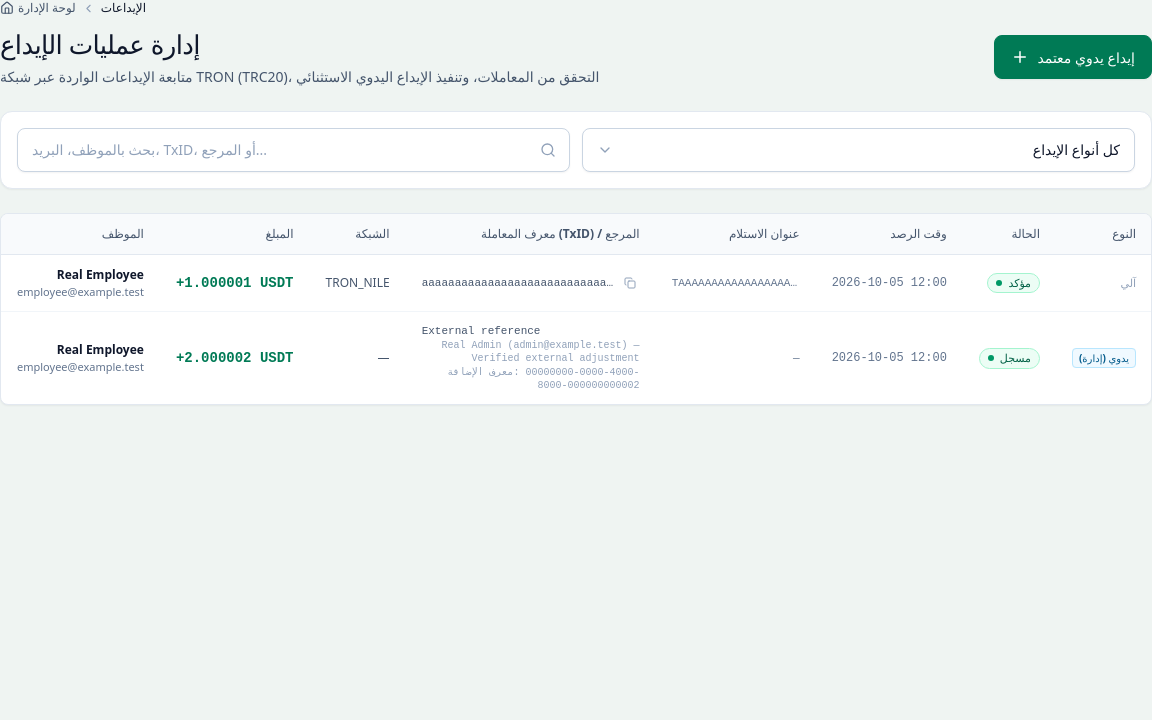
Test: renders genuine exact chain/manual history without fixture grant authority and reports copy refusal
Expected: the text "+1.000001 USDT" is shown, top-left (160, 254), bottom-right (310, 312)
Expected: the text "+2.000002 USDT" is shown, top-left (160, 312), bottom-right (310, 404)
Click the button named "نسخ المعرف". click: (630,283)
box: top-left (620, 273), bottom-right (640, 293)
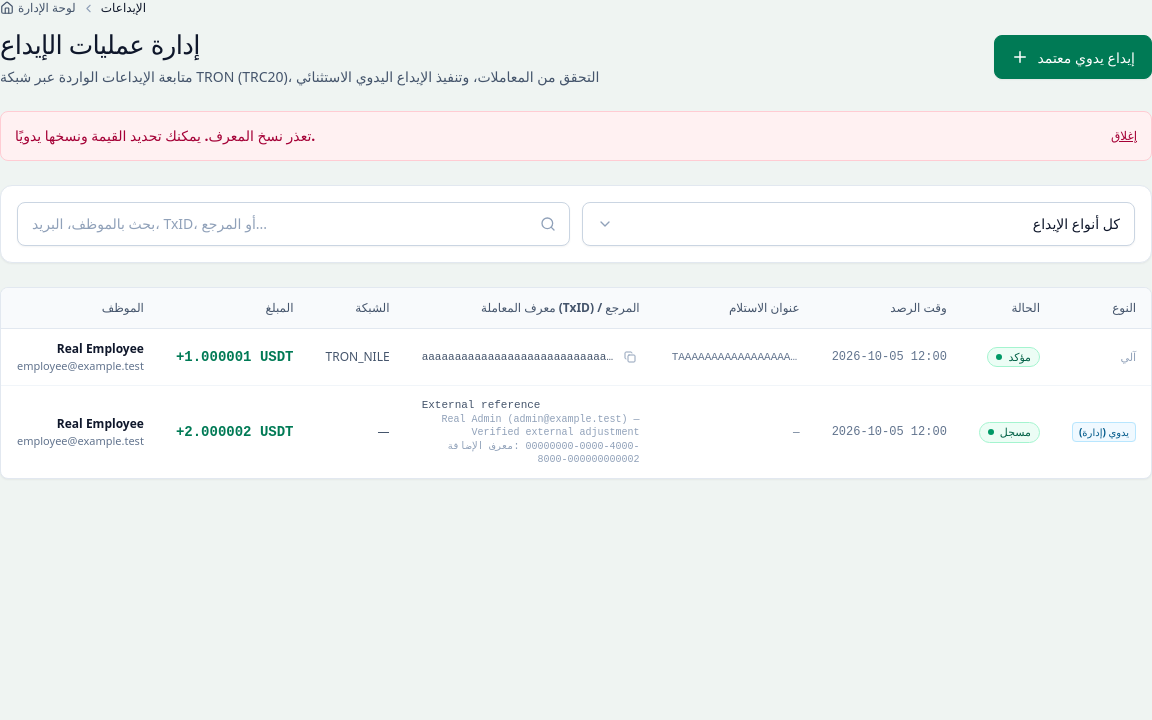
Now the text "تعذر نسخ المعرف. يمكنك تحديد القيمة ونسخها يدويًا." is shown, box top-left (15, 126), bottom-right (315, 146)
Click the button "إيداع يدوي معتمد". click: (1073,57)
box: top-left (994, 35), bottom-right (1151, 79)
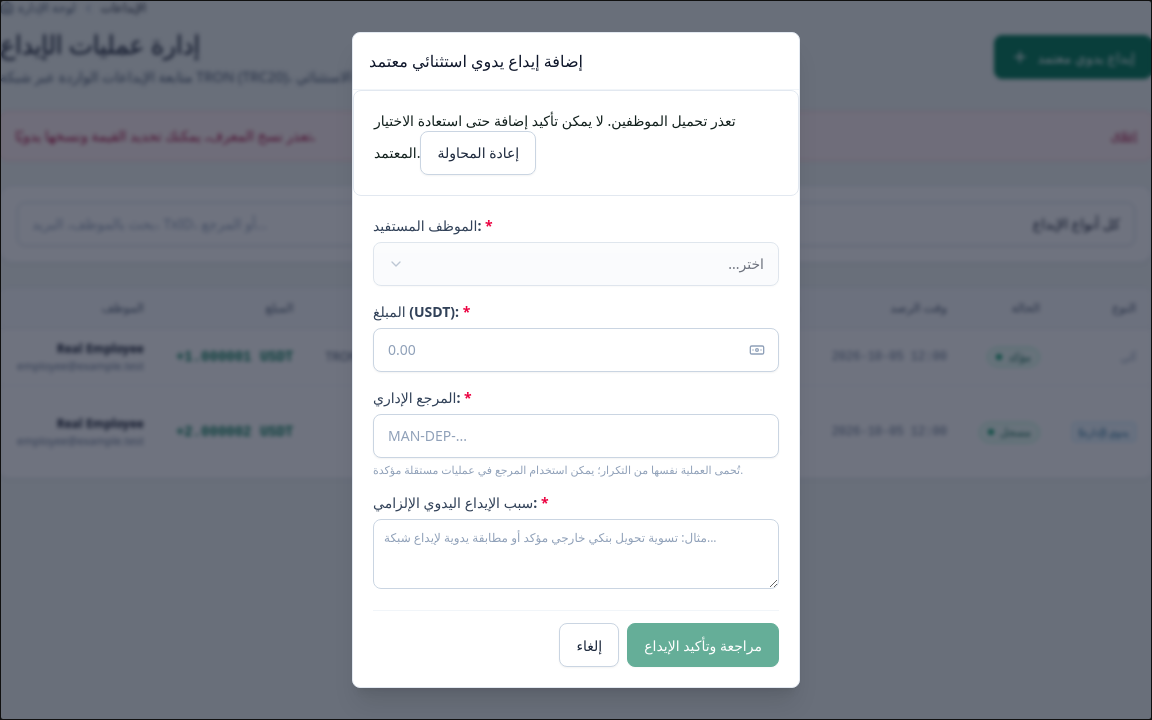
Now the button "مراجعة وتأكيد الإيداع" is disabled, box top-left (627, 623), bottom-right (779, 667)
